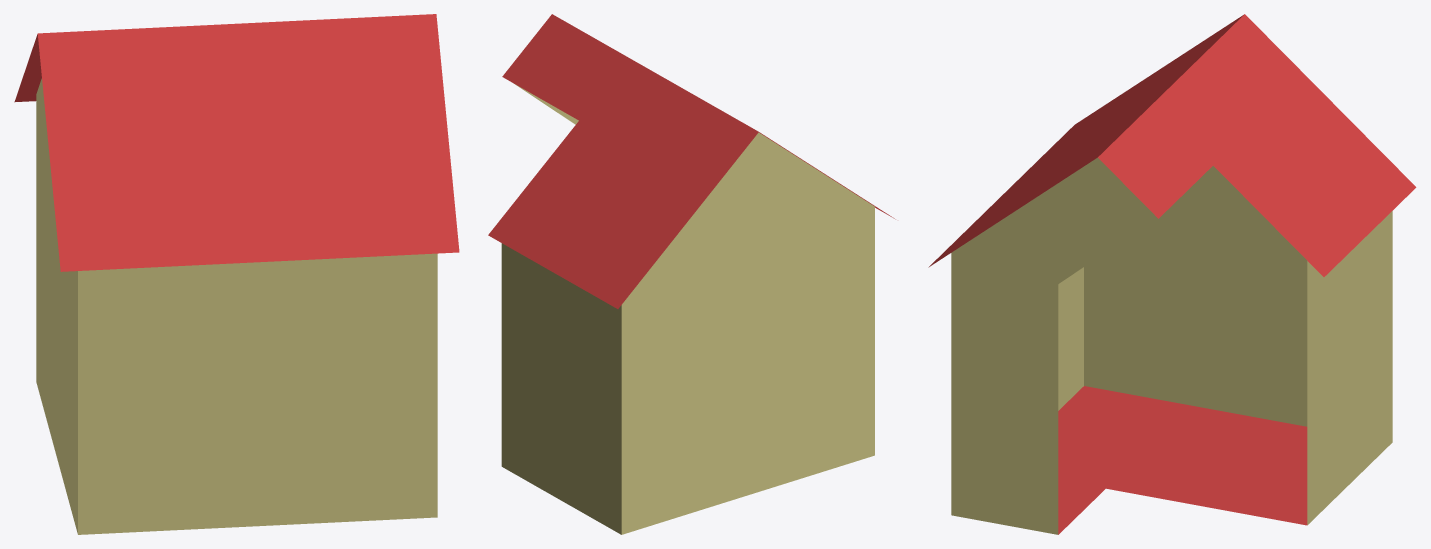
3 views of the same model, side by side, from view 1: azimuth 30°, elevation 25°; view 2: azimuth 150°, elevation 25°; view 3: azimuth 270°, elevation 25° (orthographic). The views are drawn at different scales.
Bounding box in the file's own units: 12.11 × 13.47 × 11.94.
